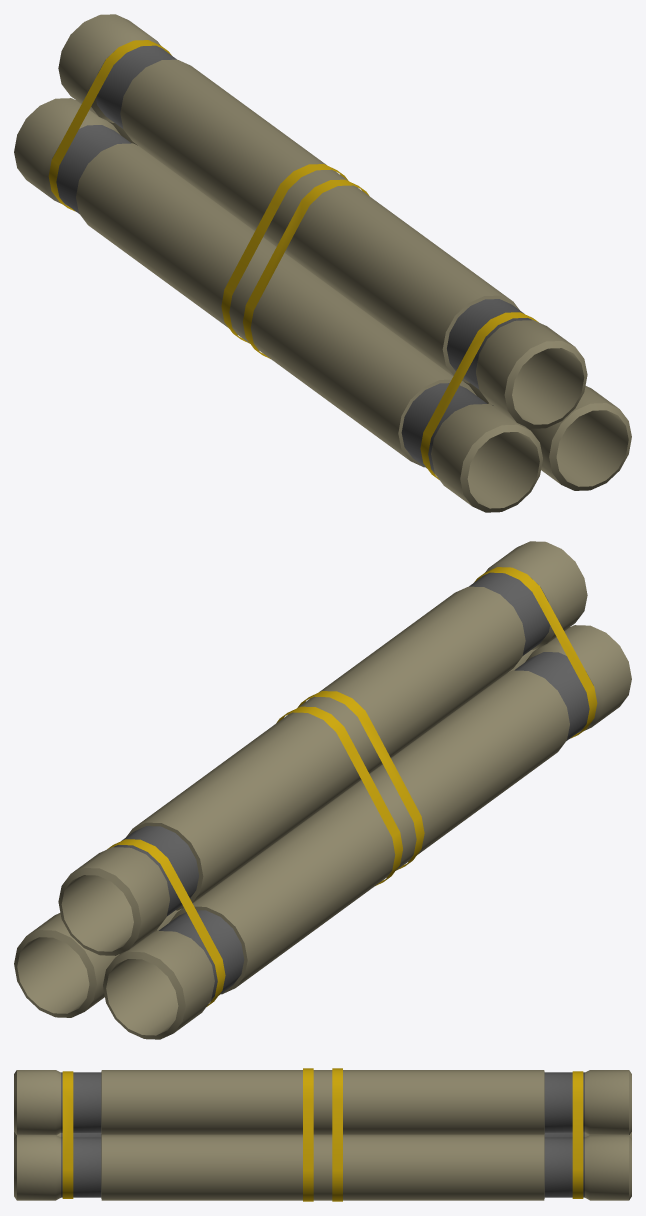
The model's file is quaternius-zombie-apocalypse-kit-march-pipes.glb.
3 renders of one model, top to bottom at view 1: azimuth 30°, elevation 25°; view 2: azimuth 150°, elevation 25°; view 3: azimuth 270°, elevation 25°, orthographic. The views are drawn at different scales.
Parts seen in each view (by area): view 1: Pipes; view 2: Pipes; view 3: Pipes.
Boxes of the visible parts, x1,y1,x2,y2 form: Pipes: (14, 14, 631, 512); Pipes: (14, 541, 631, 1039); Pipes: (14, 1068, 631, 1201).
Size of the model in its own units: 0.7479 by 0.6713 by 3.36.
Materials: 1 (1 with a texture image).
